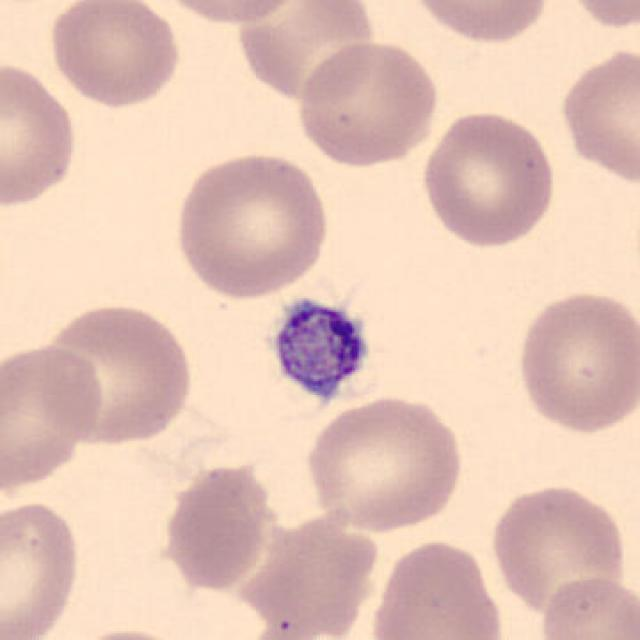Platelets: (261, 292, 377, 410)
RBC: (169, 146, 332, 304), (31, 298, 198, 450), (300, 392, 468, 534), (416, 106, 560, 250), (291, 37, 441, 169), (486, 481, 630, 617), (512, 286, 638, 437), (156, 457, 282, 596), (0, 337, 107, 499), (231, 0, 382, 106), (44, 0, 184, 109), (366, 536, 507, 640), (0, 56, 82, 212), (555, 42, 638, 190), (0, 495, 85, 639), (535, 571, 638, 640), (404, 0, 554, 46), (149, 0, 313, 28), (235, 617, 359, 640), (554, 0, 640, 33), (62, 624, 201, 640)
